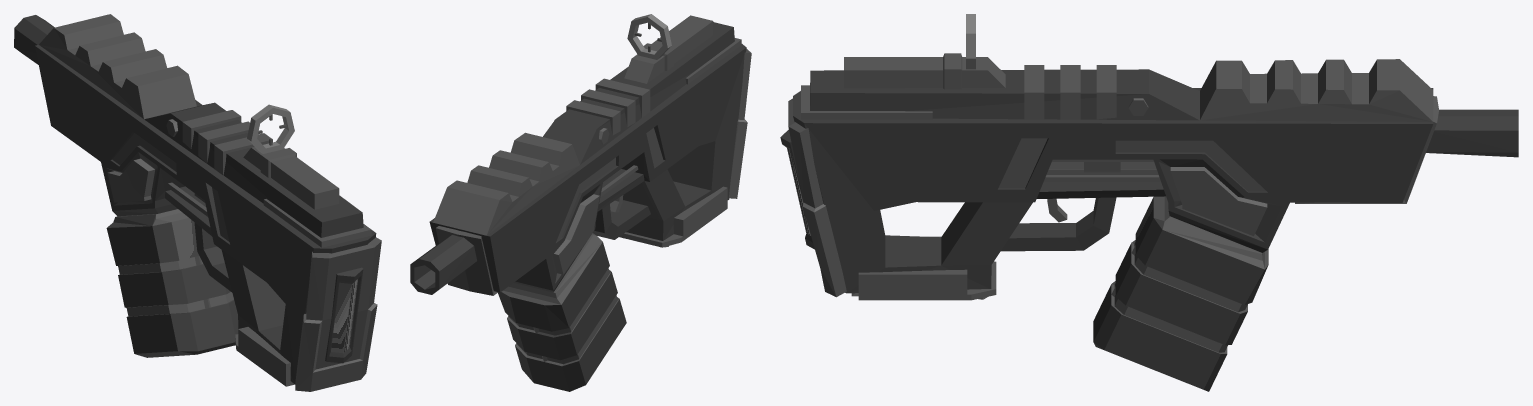
Rendered from fusil_5.glb.
The picture shows the model from 3 angles, left to right: view 1: azimuth 30°, elevation 25°; view 2: azimuth 150°, elevation 25°; view 3: azimuth 270°, elevation 25°; orthographic projection. The views are drawn at different scales.
Visible parts, largest first — view 1: fusil_5, fusil_charguer_5, fusil_scope_5; view 2: fusil_5, fusil_charguer_5, fusil_scope_5; view 3: fusil_5, fusil_charguer_5, fusil_scope_5.
Part boxes in pixels (x1,y1,x2,y2): fusil_5: (14,14,381,391); fusil_charguer_5: (106,209,238,357); fusil_scope_5: (243,104,339,209); fusil_5: (410,22,751,295); fusil_charguer_5: (498,233,626,391); fusil_scope_5: (624,14,713,83); fusil_5: (780,59,1518,300); fusil_charguer_5: (1093,196,1268,391); fusil_scope_5: (844,14,1005,89).
Size of the model in its own units: 0.3447 by 1.45 by 2.64.
Materials: 1 (1 with a texture image).
